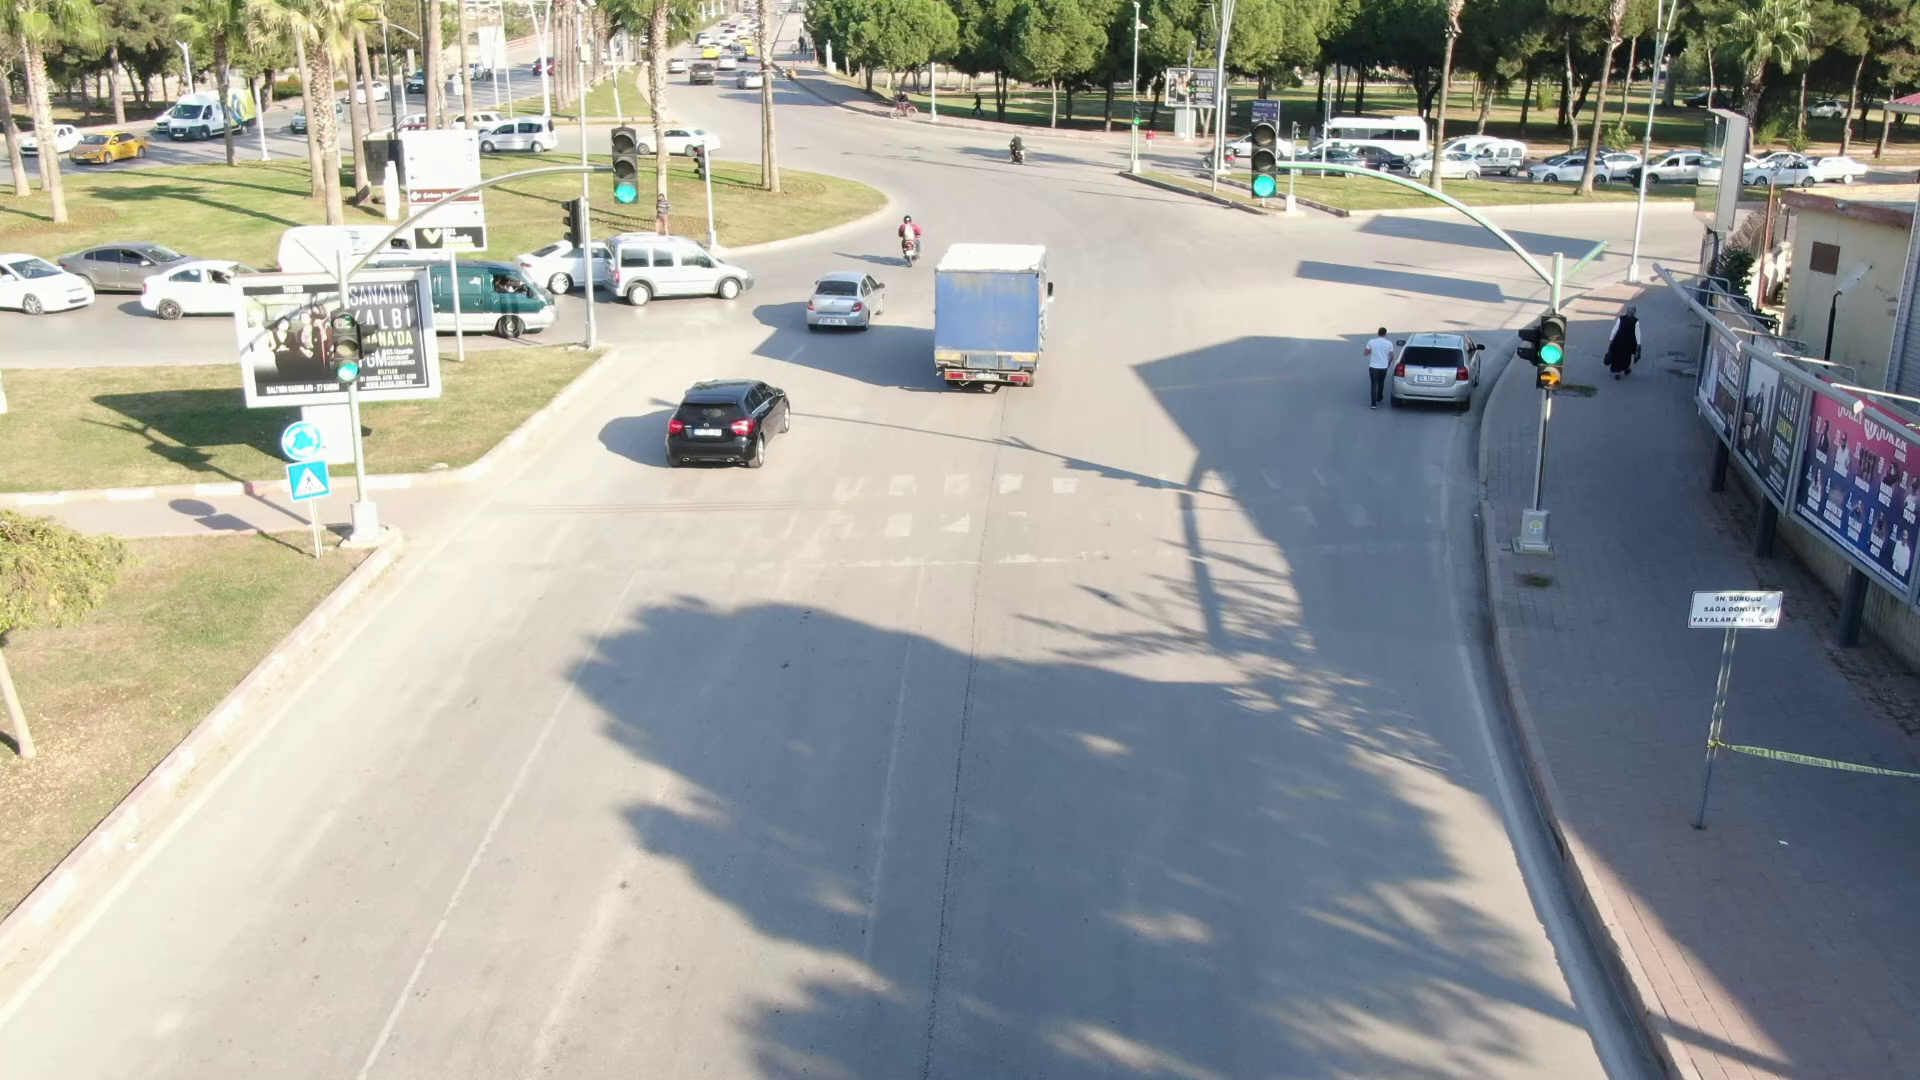car: (658, 367, 805, 477), (60, 224, 194, 313), (1316, 107, 1442, 173), (1396, 327, 1486, 410), (146, 83, 264, 147), (799, 263, 895, 337), (469, 103, 564, 158), (67, 122, 160, 172), (1528, 148, 1625, 192), (604, 228, 667, 256)
person: (1597, 293, 1649, 378), (1359, 321, 1398, 419)
